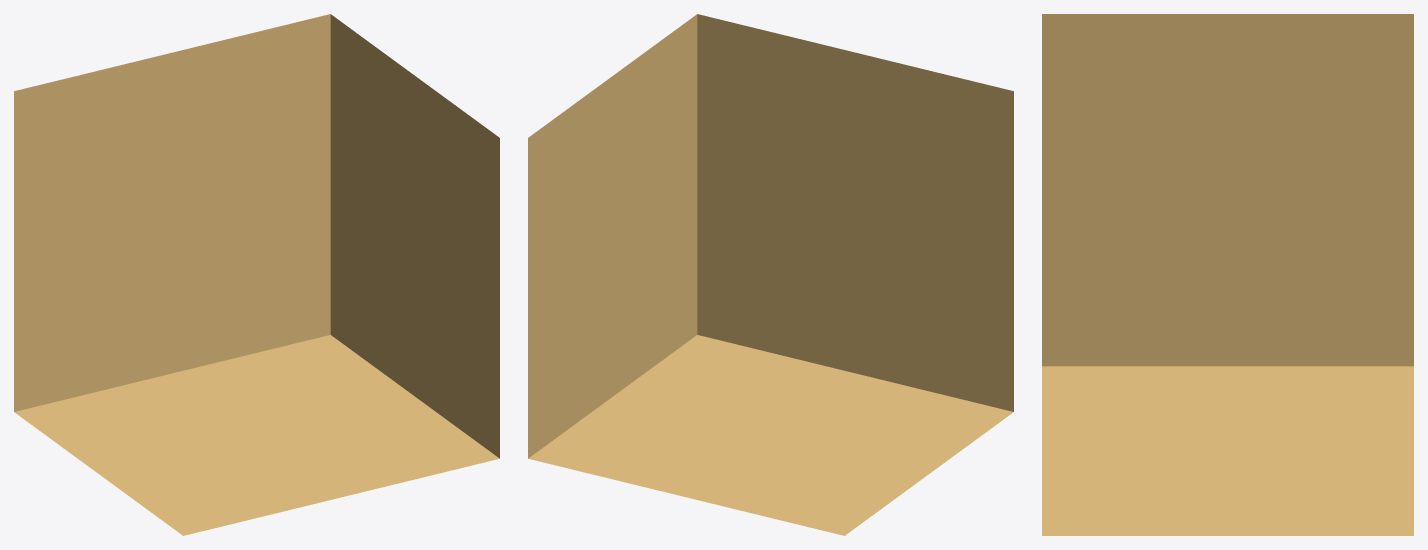
File: decor-props-temple-mandap-003.glb
3 views of the same model, side by side, from view 1: azimuth 30°, elevation 25°; view 2: azimuth 150°, elevation 25°; view 3: azimuth 270°, elevation 25° (orthographic). The views are drawn at different scales.
Parts seen in each view (by area): view 1: Temple Mandap Decor Props; view 2: Temple Mandap Decor Props; view 3: Temple Mandap Decor Props.
Boxes of the visible parts, x1,y1,x2,y2 form: Temple Mandap Decor Props: (14,14,499,535); Temple Mandap Decor Props: (528,14,1013,535); Temple Mandap Decor Props: (1042,14,1413,535).
Bounding box in the file's own units: 1.9 × 1.84 × 1.76.
